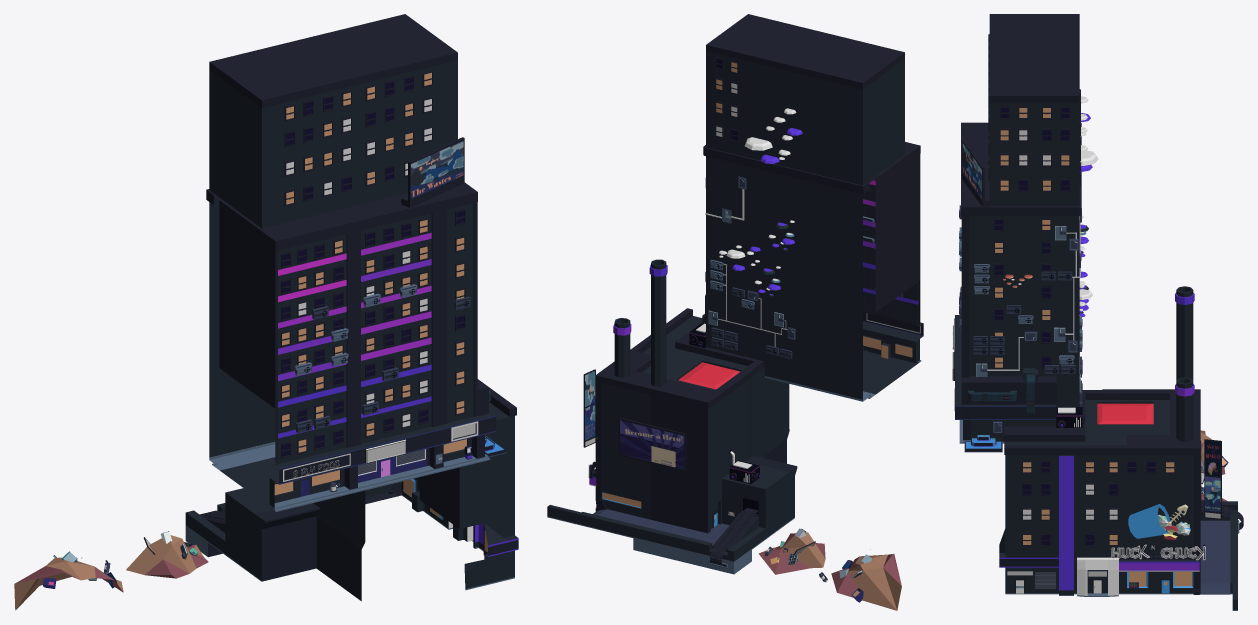
File: HuckNChuckTower.fbx
3 renders of one model, left to right at view 1: azimuth 30°, elevation 25°; view 2: azimuth 150°, elevation 25°; view 3: azimuth 270°, elevation 25°, orthographic. The views are drawn at different scales.
Visible parts, largest first — view 1: Cube.1024, Cube.1224, Cube.1265, Plane.028, Plane.035; view 2: Cube.1024, Cube.1224, Plane.035, Cube.1267, Plane.028, Cube.1232, Cylinder.395, Cube.1226, Cube.838, Apartment 04.021; view 3: Cube.1024, Cube.1224, Cube.1232, Cube.1265, Text.053, Text.050, Apartment 04.010, Text.051, Cube.1263, Cube.1262, Cylinder.395, Apartment 04.035.
Boxes of the visible parts, x1,y1,x2,y2 form: Cube.1024: [206, 14, 496, 511]; Cube.1224: [185, 379, 518, 601]; Cube.1265: [401, 137, 464, 207]; Plane.028: [126, 531, 208, 578]; Plane.035: [14, 551, 123, 610]; Cube.1024: [702, 14, 923, 401]; Cube.1224: [547, 259, 797, 574]; Plane.035: [819, 549, 901, 610]; Cube.1267: [618, 417, 686, 471]; Plane.028: [758, 528, 825, 574]; Cube.1232: [583, 369, 598, 447]; Cylinder.395: [744, 108, 802, 163]; Cube.1226: [709, 508, 758, 565]; Cube.838: [729, 449, 759, 483]; Apartment 04.021: [708, 263, 787, 346]; Cube.1024: [952, 14, 1081, 443]; Cube.1224: [999, 286, 1239, 610]; Cube.1232: [1200, 439, 1221, 519]; Cube.1265: [962, 140, 990, 206]; Text.053: [1128, 504, 1170, 539]; Text.050: [1111, 544, 1205, 560]; Apartment 04.010: [1054, 220, 1080, 352]; Text.051: [1111, 543, 1205, 559]; Cube.1263: [964, 434, 1002, 452]; Cube.1262: [1056, 407, 1084, 427]; Cylinder.395: [1080, 96, 1098, 171]; Apartment 04.035: [976, 331, 1037, 376].
Bounding box in the file's own units: 4884 × 6337 × 3391.
